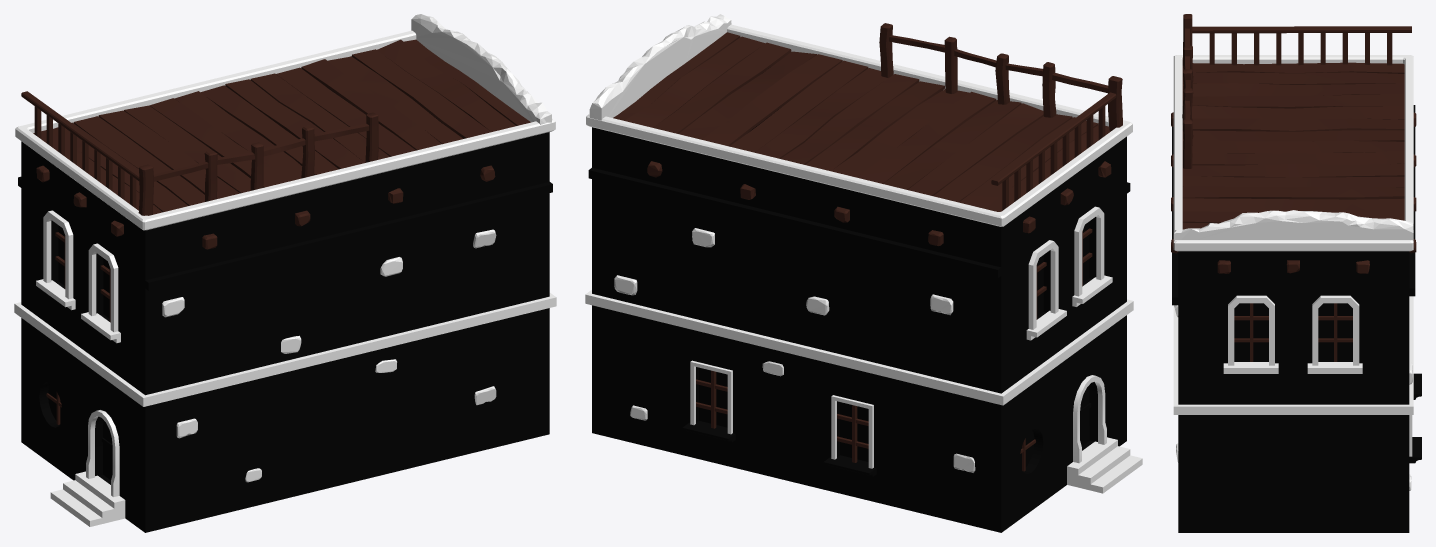
The model's file is civilian_house_04.FBX.
The picture shows the model from 3 angles, left to right: view 1: azimuth 30°, elevation 25°; view 2: azimuth 150°, elevation 25°; view 3: azimuth 270°, elevation 25°; orthographic projection. The views are drawn at different scales.
Parts seen in each view (by area): view 1: civilian_house_04; view 2: civilian_house_04; view 3: civilian_house_04.
Part boxes in pixels (<box>): civilian_house_04: <box>14,14,556,532</box>; civilian_house_04: <box>585,14,1142,532</box>; civilian_house_04: <box>1171,14,1421,532</box>.
Bounding box in the file's own units: 1572 × 1204 × 815.
